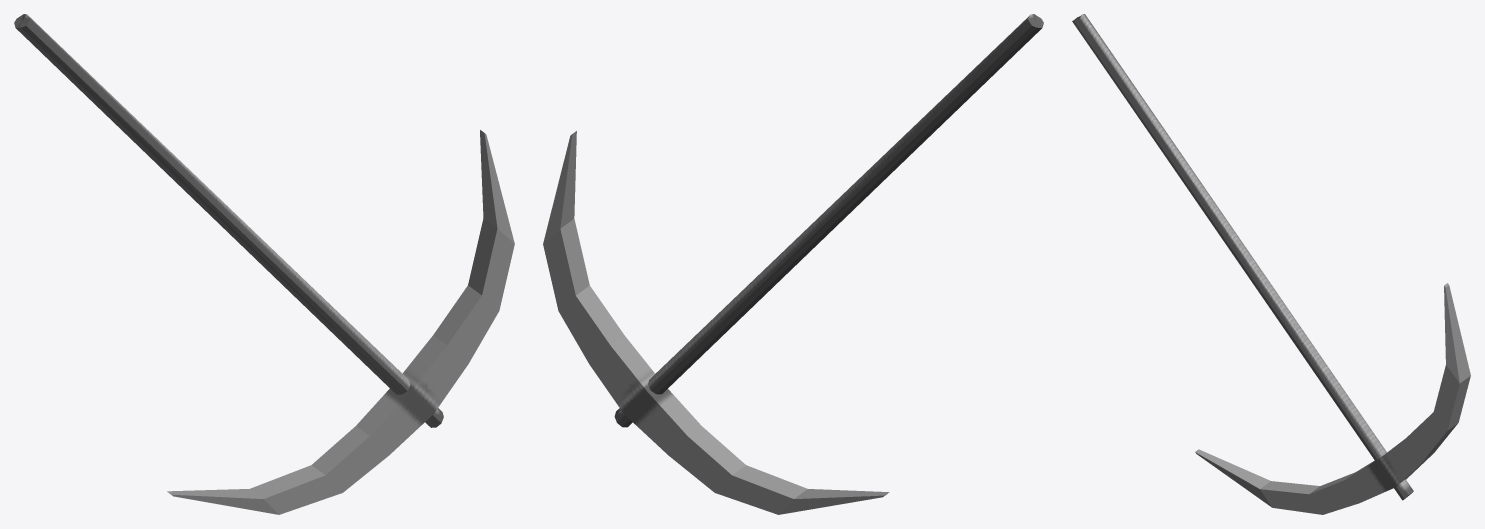
Rendered from PickAxe.glb.
3 views of the same model, side by side, from view 1: azimuth 30°, elevation 25°; view 2: azimuth 150°, elevation 25°; view 3: azimuth 330°, elevation 25° (orthographic). The views are drawn at different scales.
Visible parts, largest first — view 1: PickAxe; view 2: PickAxe; view 3: PickAxe.
Part boxes in pixels (bbox=[...]): PickAxe: bbox=[14, 14, 514, 514]; PickAxe: bbox=[543, 14, 1043, 514]; PickAxe: bbox=[1072, 14, 1470, 514].
Size of the model in its own units: 314 by 338 by 15.5.
Materials: 1 (1 with a texture image).
